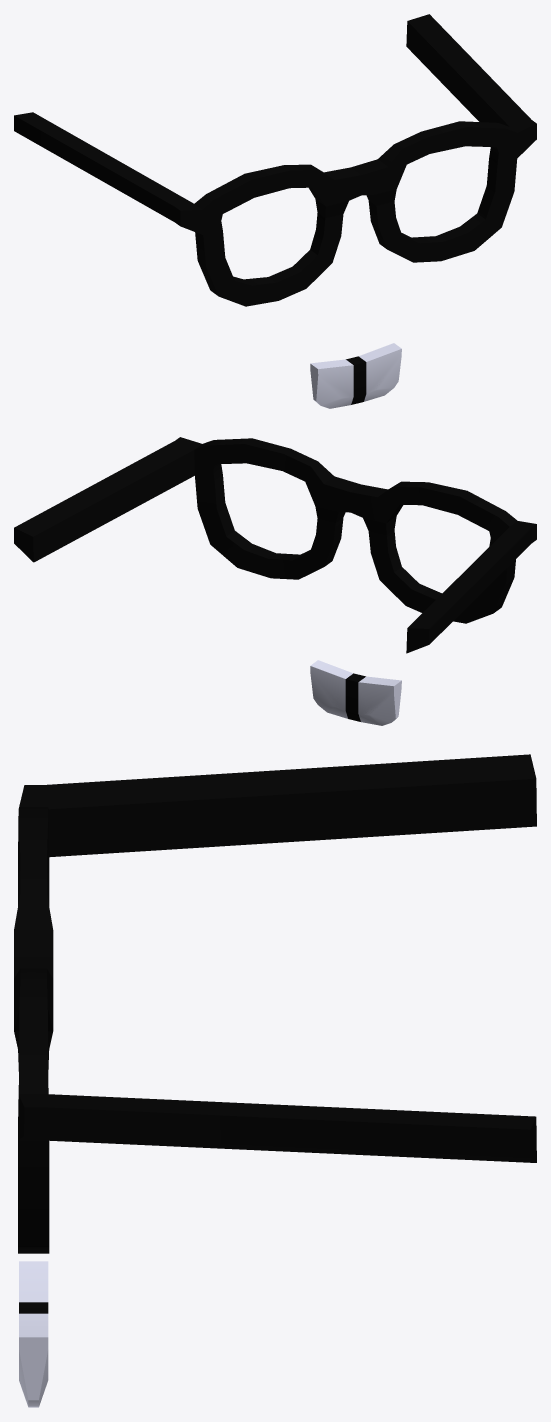
File: NERD.fbx
The picture shows the model from 3 angles, top to bottom: view 1: azimuth 30°, elevation 25°; view 2: azimuth 150°, elevation 25°; view 3: azimuth 270°, elevation 25°; orthographic projection. The views are drawn at different scales.
Parts seen in each view (by area): view 1: Glasses; view 2: Glasses; view 3: Glasses.
Boxes of the visible parts, x1,y1,x2,y2 form: Glasses: (14,14,536,408); Glasses: (14,437,536,725); Glasses: (14,754,536,1407).
Bounding box in the file's own units: 785 × 455 × 463.
